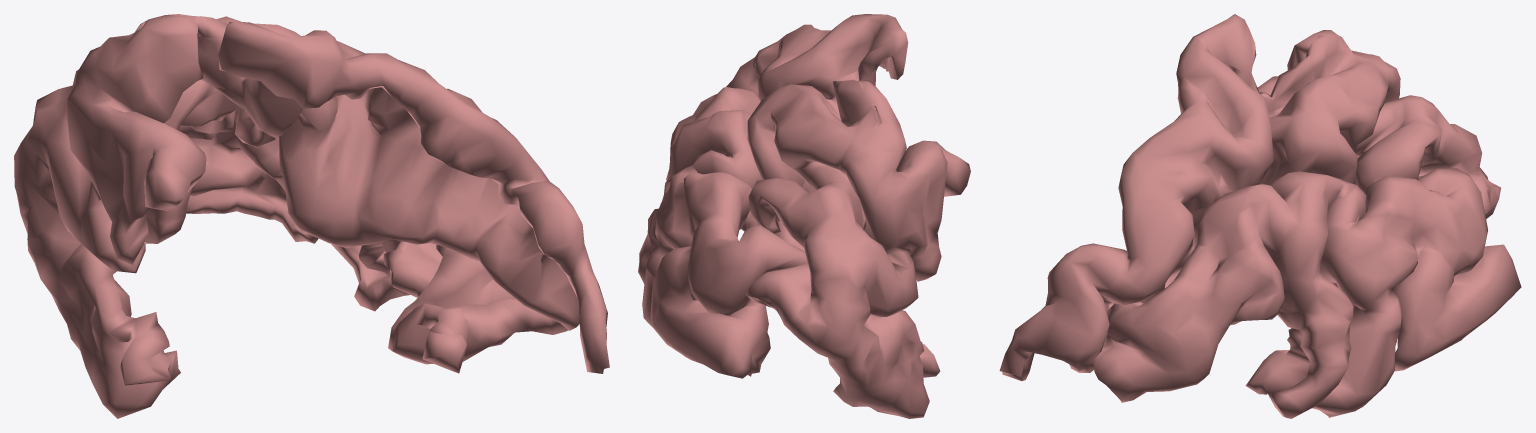
File: Parietal.L.001.fbx
The picture shows the model from 3 angles, left to right: view 1: azimuth 30°, elevation 25°; view 2: azimuth 150°, elevation 25°; view 3: azimuth 270°, elevation 25°; orthographic projection. The views are drawn at different scales.
Visible parts, largest first — view 1: Angular gyrus.l.001; view 2: Angular gyrus.l.001; view 3: Angular gyrus.l.001.
Part boxes in pixels (x1,y1,x2,y2): Angular gyrus.l.001: (14,14,609,418); Angular gyrus.l.001: (638,14,970,418); Angular gyrus.l.001: (999,14,1521,418).
Bounding box in the file's own units: 6.81 × 9.81 × 7.26.
